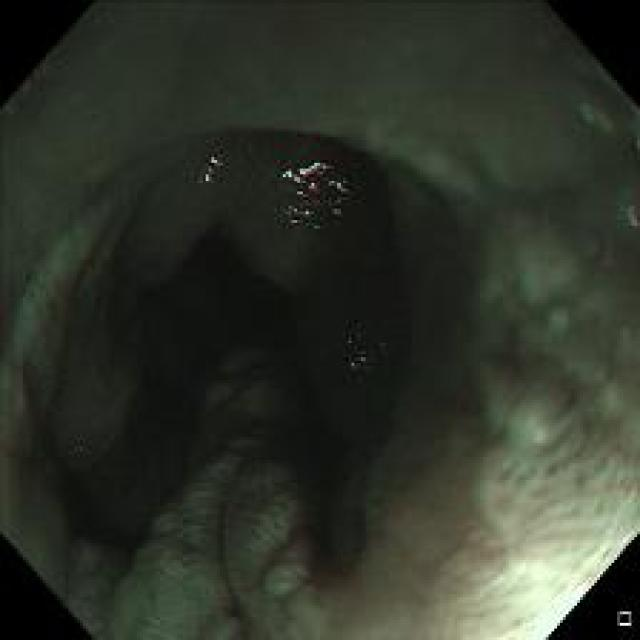blur: (488, 132, 630, 612)
color misalignment: (279, 154, 350, 232), (350, 334, 391, 380), (195, 152, 225, 194)
contrast: (84, 155, 472, 575)
saturation: (528, 599, 576, 634)
